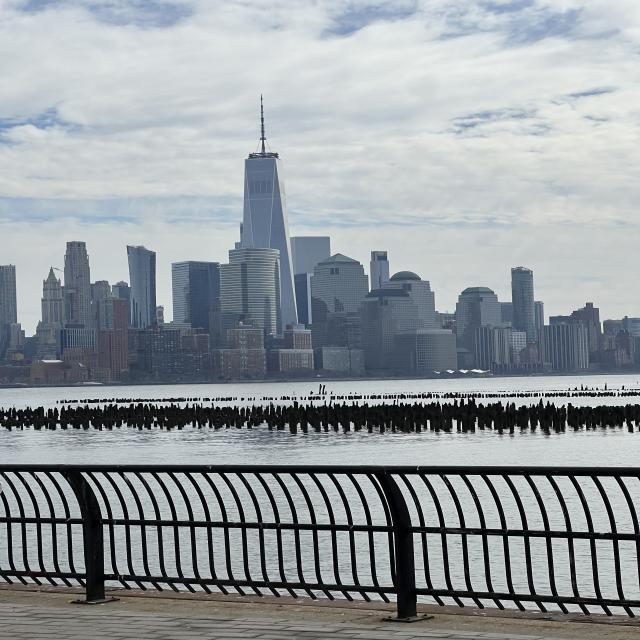WTC: (237, 94, 292, 249)
